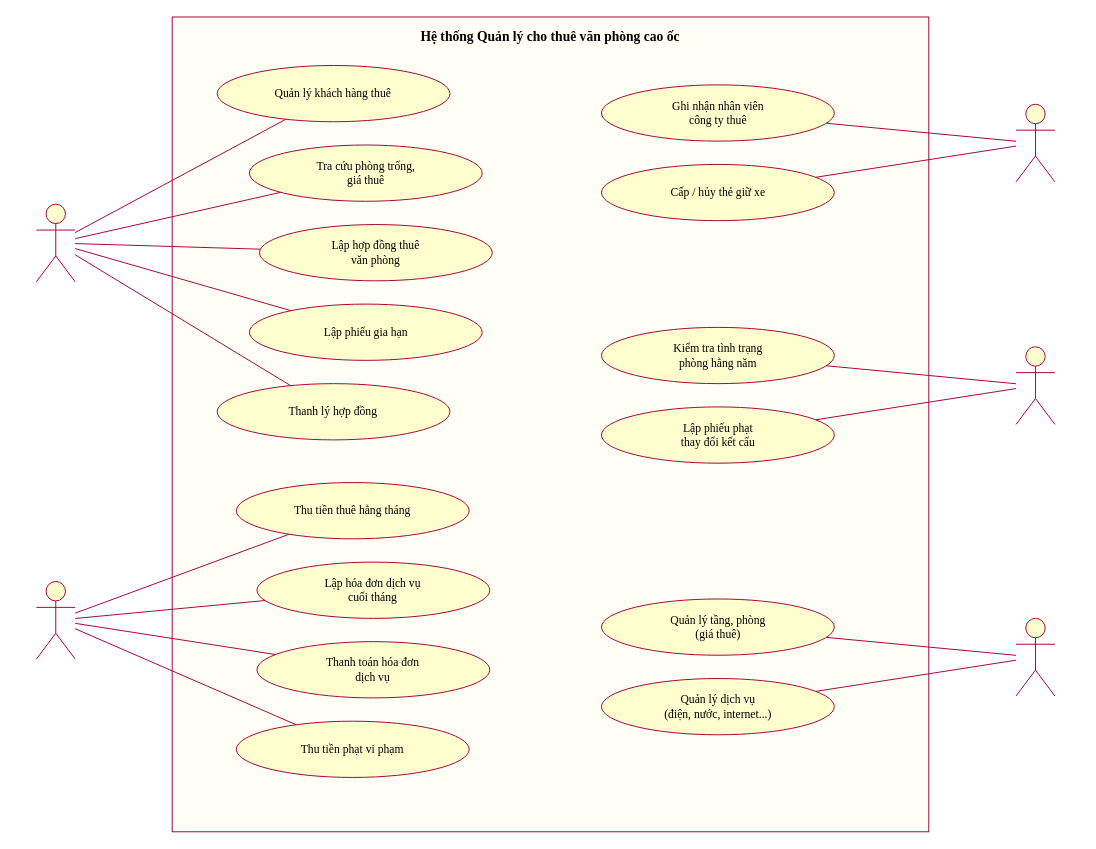
This 1096x849 diagram has some shape labels left out. Each missing label, with the centre of its shape:
"Kế toán" goes at [55,620].
"NV an ninh" goes at [1035,142].
"NV kinh doanh" goes at [55,242].
"NV kỹ thuật" goes at [1035,385].
"Quản trị hệ thống" goes at [1035,656].
